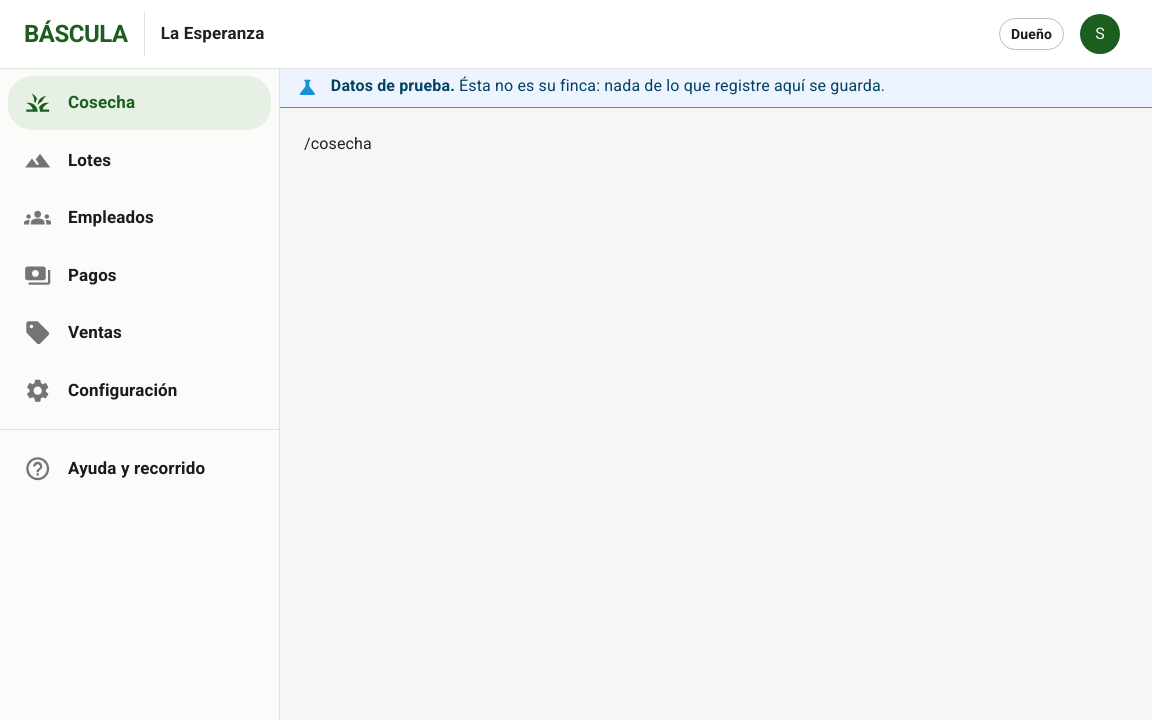
Test: AppShell › offers a platform admin the support console
Click the button named "Cuenta". click: (1100, 34)
box: [1072,6,1128,62]
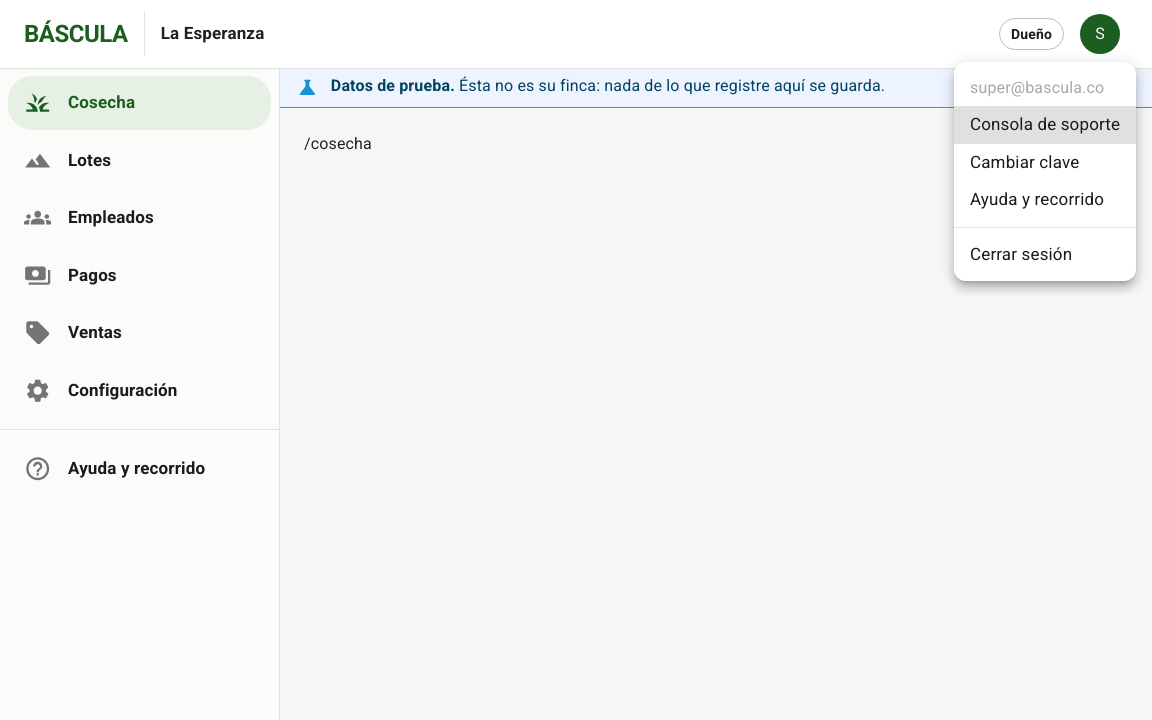
Click the menu item "Consola de soporte". click: (1045, 125)
box: [954,106,1136,144]
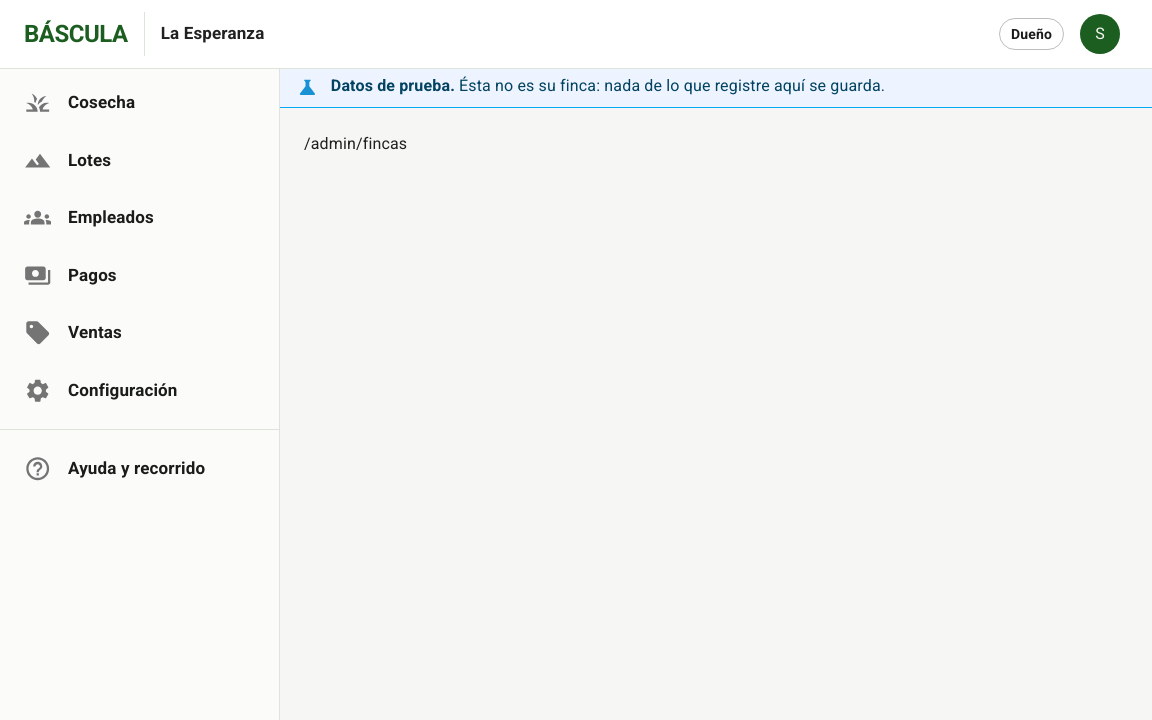
Now the text with test id "where" reads "/admin/fincas", box [304,134,407,153]
Now the menu is gone
